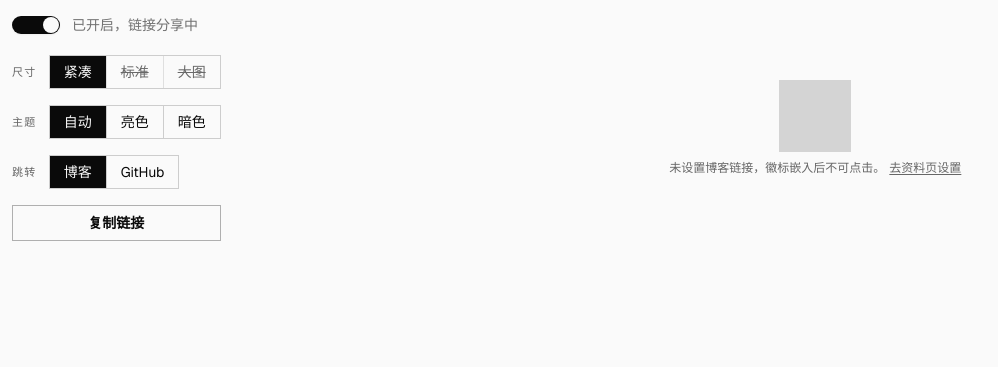
Test: BadgeSection › makes the exact link selectable when clipboard permission fails
Click the button "复制链接" at (116, 223), box [12,205,221,241]
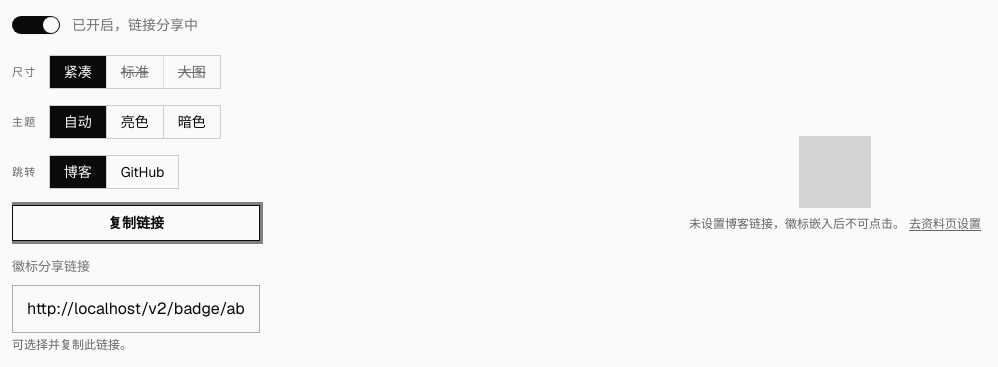
Now the field labelled "徽标分享链接" holds "http://localhost/v2/badge/abc.svg?size=sm&theme=auto&target=blog", box [12,284,260,332]
